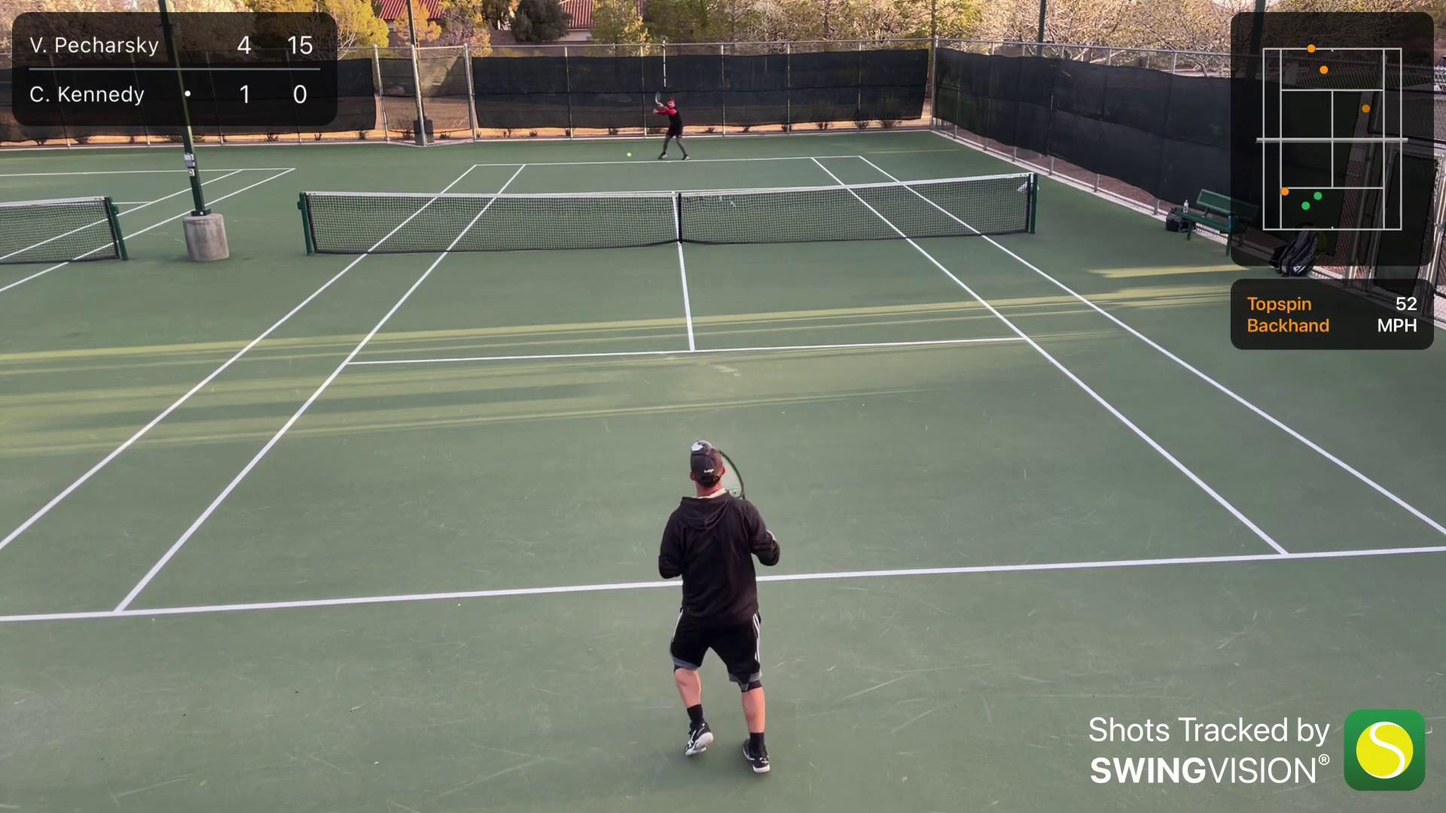ball: (626, 151, 633, 158)
